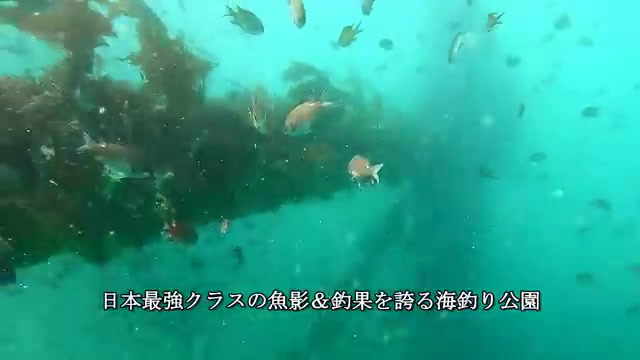smallfish: (325, 146, 387, 193), (278, 96, 334, 140), (220, 3, 268, 43), (327, 23, 366, 51)
